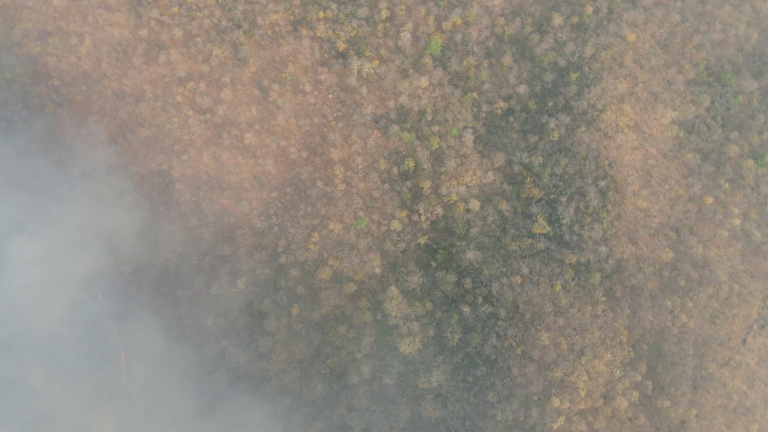fire: (95, 295, 136, 402)
smoke: (3, 112, 268, 432)
